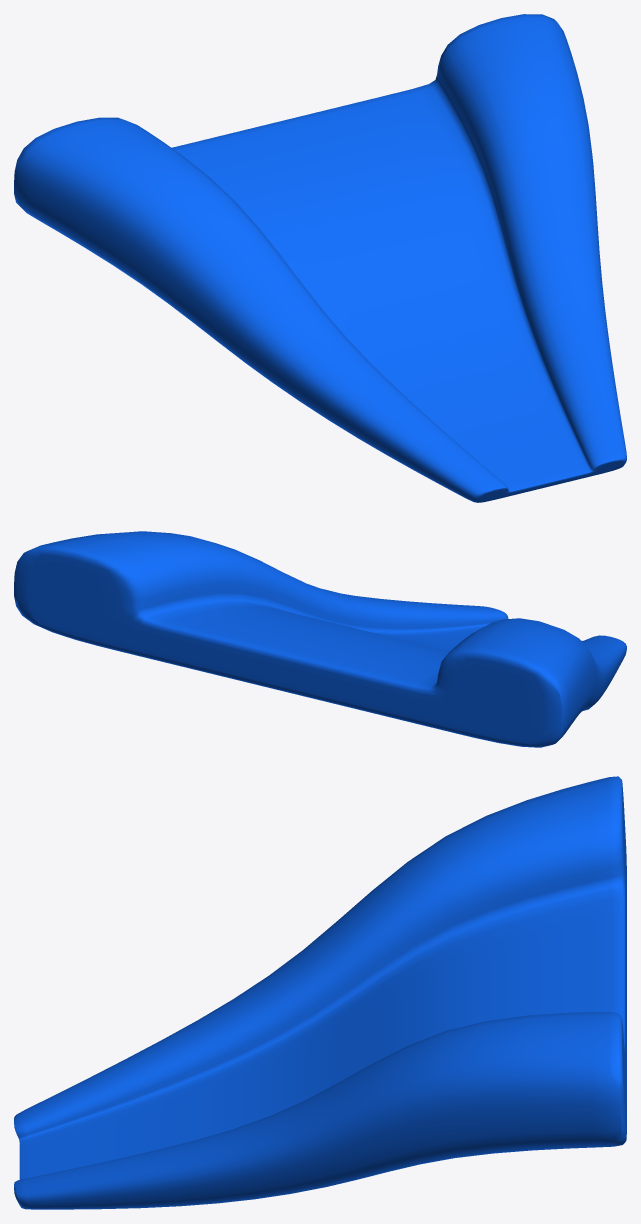
The model's file is slides.fbx.
The picture shows the model from 3 angles, top to bottom: view 1: azimuth 30°, elevation 25°; view 2: azimuth 150°, elevation 25°; view 3: azimuth 270°, elevation 25°; orthographic projection. The views are drawn at different scales.
Parts seen in each view (by area): view 1: slides; view 2: slides; view 3: slides.
Part boxes in pixels (left/top/right/bottom): slides: left=14, top=14, right=626, bottom=502; slides: left=14, top=531, right=626, bottom=747; slides: left=14, top=776, right=626, bottom=1209.
Bounding box in the file's own units: 5.24 × 2.07 × 4.43.
